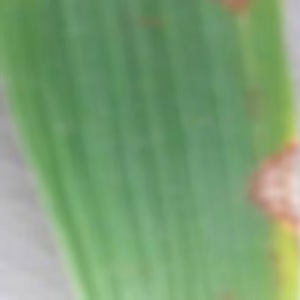Brown_Spot: (235, 125, 299, 248)
